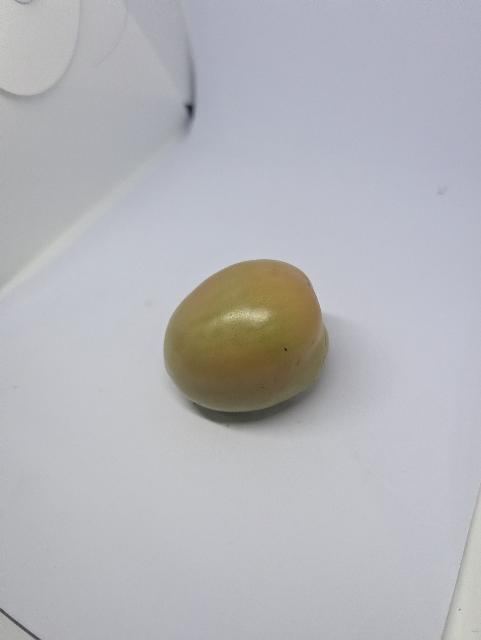breaker: (157, 257, 341, 415)
